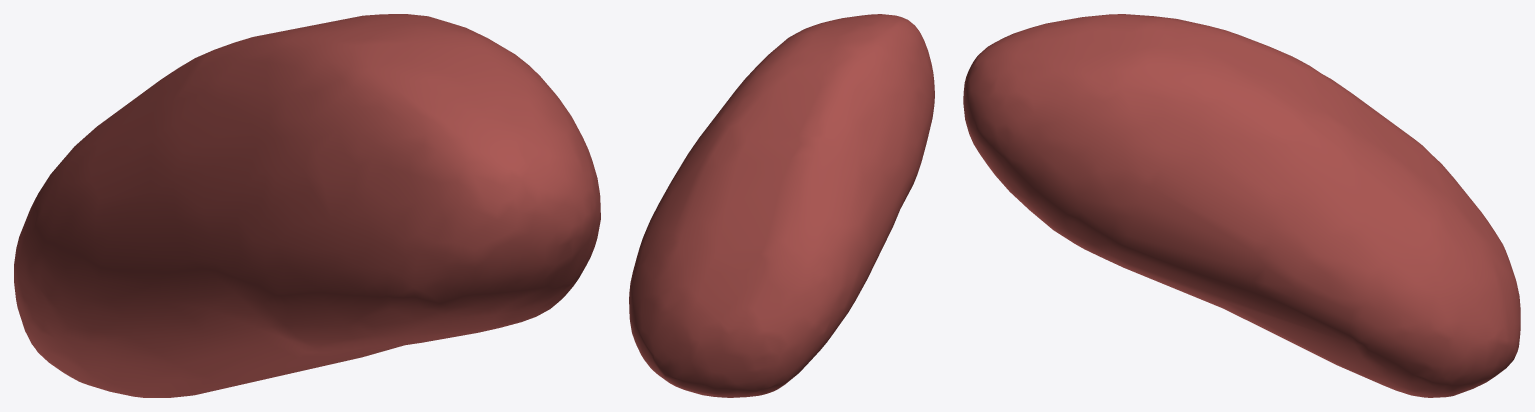
The model's file is FMA62033.glb.
3 renders of one model, left to right at view 1: azimuth 30°, elevation 25°; view 2: azimuth 150°, elevation 25°; view 3: azimuth 270°, elevation 25°, orthographic. The views are drawn at different scales.
Parts seen in each view (by area): view 1: FMA62033; view 2: FMA62033; view 3: FMA62033.
Part boxes in pixels (left/top/right/bottom): FMA62033: left=14, top=14, right=600, bottom=397; FMA62033: left=629, top=14, right=934, bottom=397; FMA62033: left=963, top=14, right=1520, bottom=397.
Size of the model in its own units: 0.00594 by 0.00731 by 0.0108.
